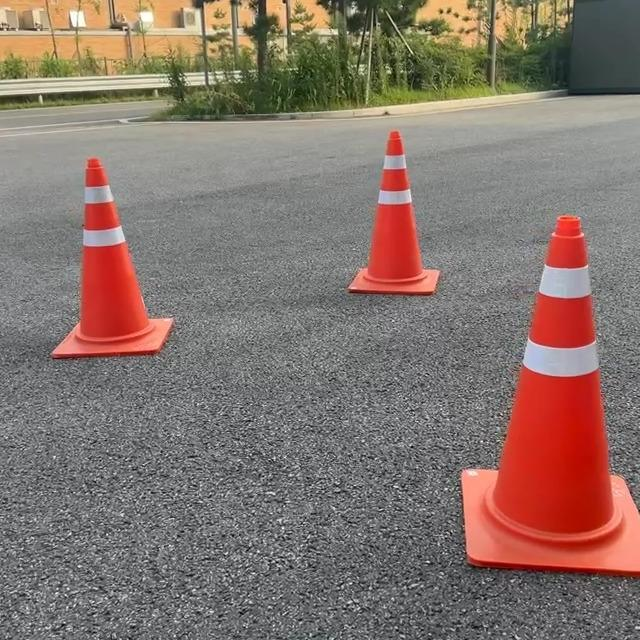fallen_object: (424, 178, 640, 600), (0, 136, 245, 402), (306, 105, 450, 349)
